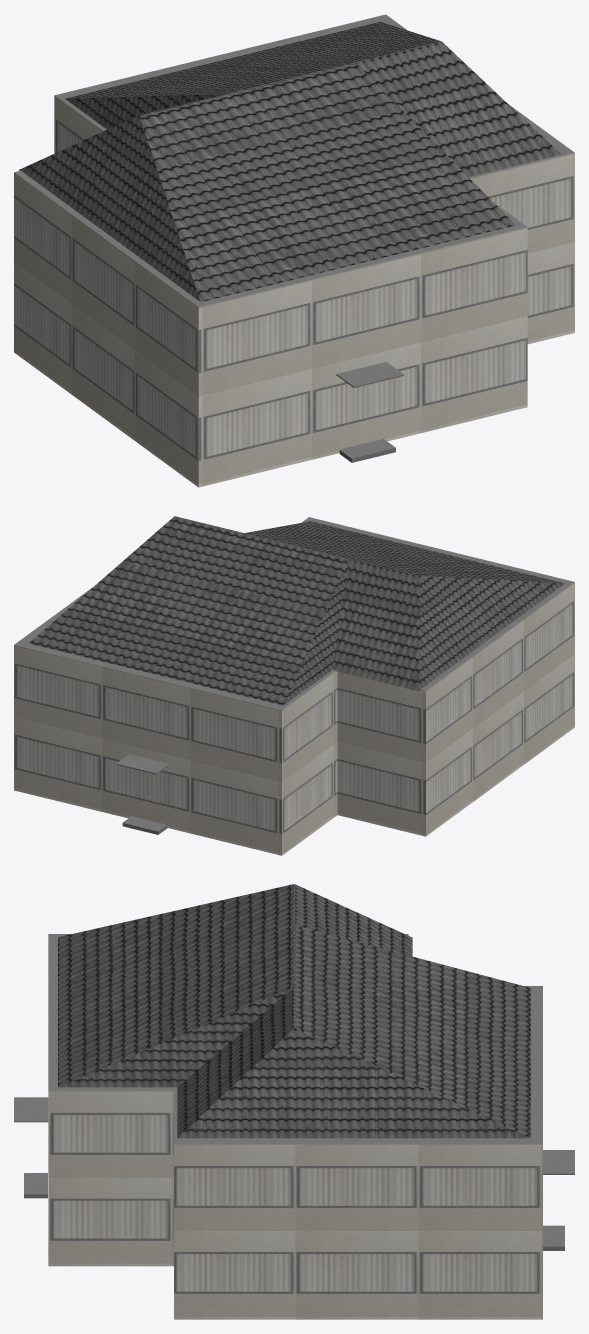
The model's file is LOD01_Building_2stores_DoubleHouse.obj.
3 views of the same model, one above another, from view 1: azimuth 30°, elevation 25°; view 2: azimuth 150°, elevation 25°; view 3: azimuth 270°, elevation 25° (orthographic). The views are drawn at different scales.
Visible parts, largest first — view 1: LOD01_Building_2stores_DoubleHouse; view 2: LOD01_Building_2stores_DoubleHouse; view 3: LOD01_Building_2stores_DoubleHouse.
Part boxes in pixels (x1,y1,x2,y2): LOD01_Building_2stores_DoubleHouse: [14, 14, 574, 487]; LOD01_Building_2stores_DoubleHouse: [14, 516, 574, 855]; LOD01_Building_2stores_DoubleHouse: [14, 884, 574, 1319].
Size of the model in its own units: 5.25 by 3 by 5.92.
